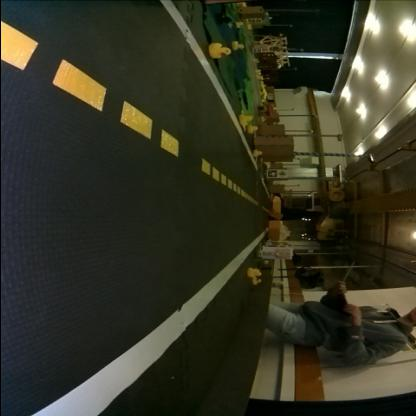Duckie: (208, 43, 230, 58), (240, 116, 252, 126), (232, 42, 244, 51), (248, 269, 258, 277), (248, 126, 258, 133), (253, 279, 261, 285), (254, 151, 261, 156)
Intersection sign: (278, 170, 288, 178)
QR code: (267, 170, 277, 178)
